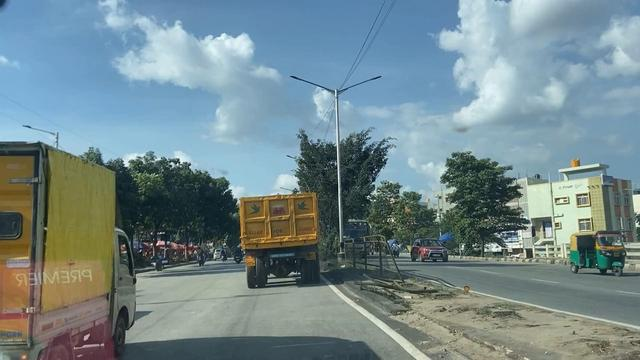HMV: (4, 140, 138, 360), (241, 197, 331, 284)
RoadDamages: (257, 329, 380, 360)
